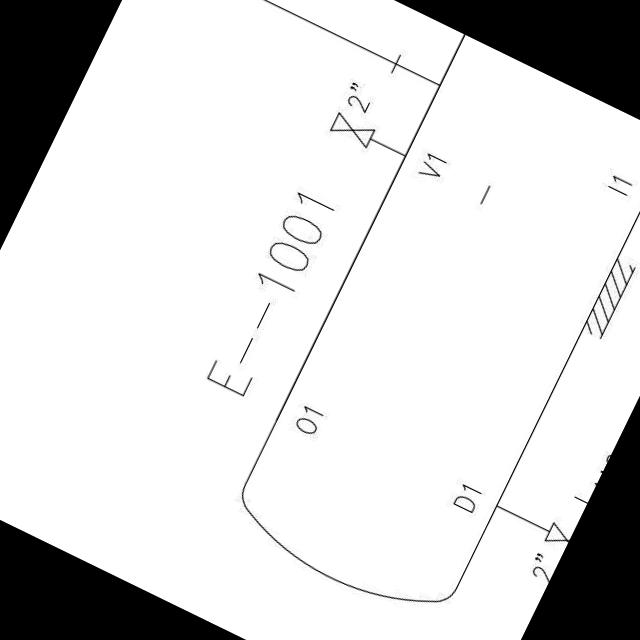GV: (322, 104, 379, 154)
